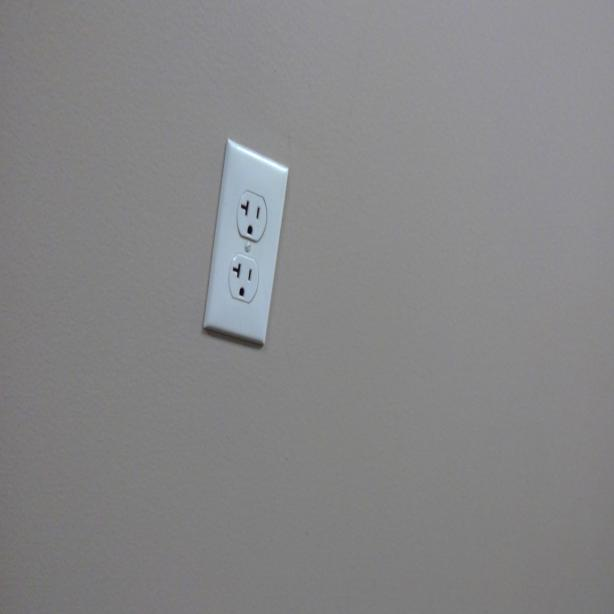typeb: (238, 192, 266, 242), (230, 249, 258, 299)
